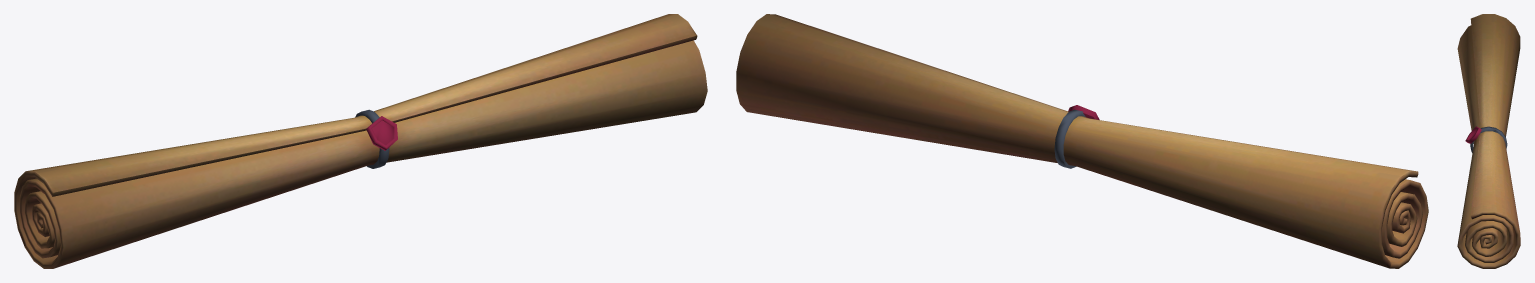
Rendered from SM_Paper_01.gltf.
3 views of the same model, side by side, from view 1: azimuth 30°, elevation 25°; view 2: azimuth 150°, elevation 25°; view 3: azimuth 270°, elevation 25° (orthographic). The views are drawn at different scales.
Visible parts, largest first — view 1: SM_Paper_01; view 2: SM_Paper_01; view 3: SM_Paper_01.
Part boxes in pixels (x1,y1,x2,y2): SM_Paper_01: [14, 14, 707, 268]; SM_Paper_01: [736, 14, 1428, 268]; SM_Paper_01: [1457, 14, 1520, 268].
Bounding box in the file's own units: 0.3889 × 0.0527 × 0.0525.
Materials: 1 (1 with a texture image).
